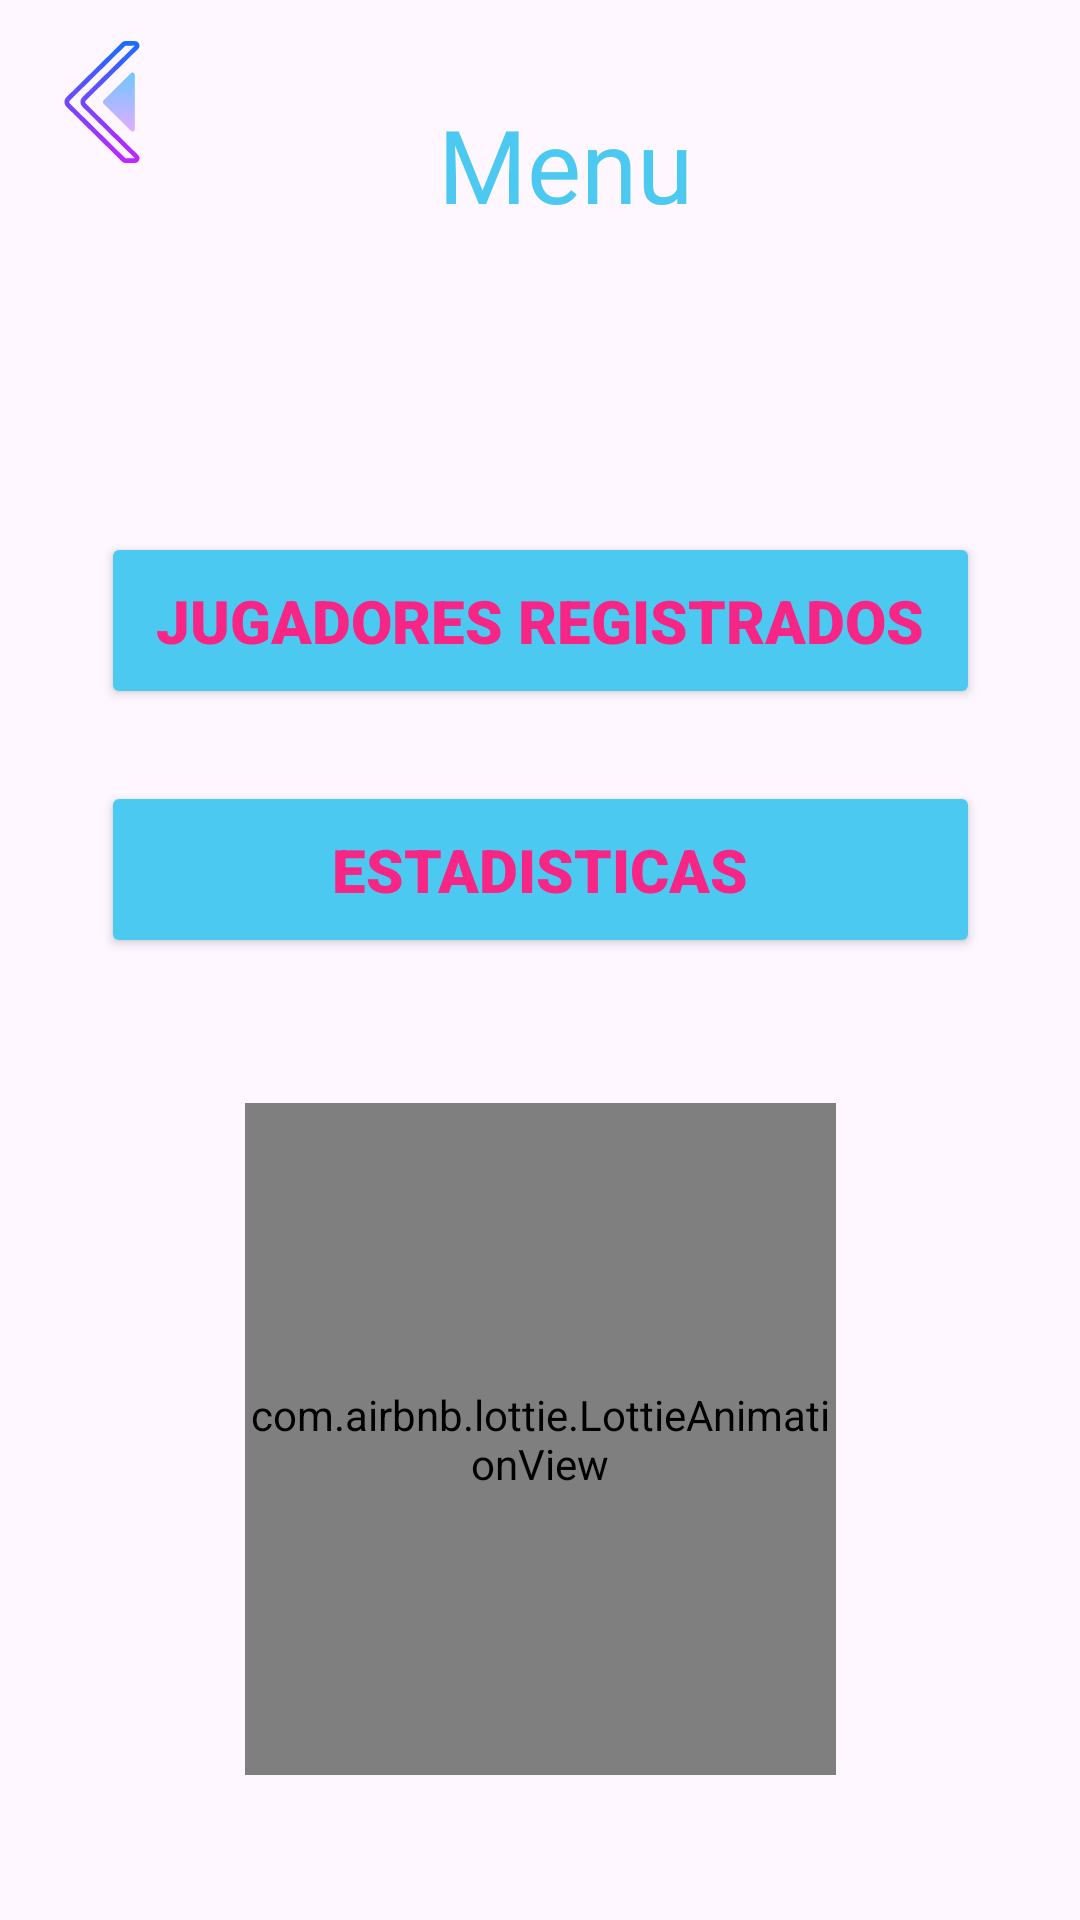

Icon bounding boxes for this 1080 x 1920 phone screenshot, format [left=x1, top=y1, right=x2, bottom=y2]:
backneon: [left=64, top=41, right=140, bottom=163]
